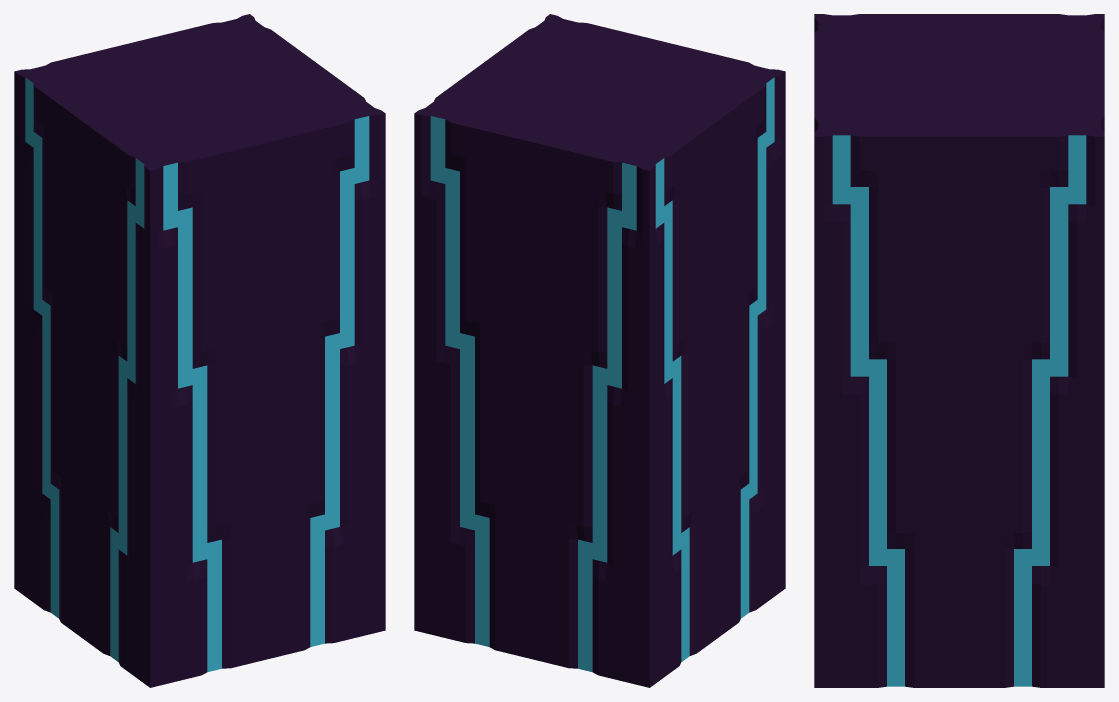
Rendered from building_export.fbx.
3 renders of one model, left to right at view 1: azimuth 30°, elevation 25°; view 2: azimuth 150°, elevation 25°; view 3: azimuth 270°, elevation 25°, orthographic. The views are drawn at different scales.
Visible parts, largest first — view 1: pCube3; view 2: pCube3; view 3: pCube3.
Boxes of the visible parts, left/top/right/bottom form: pCube3: left=14, top=14, right=385, bottom=687; pCube3: left=414, top=14, right=785, bottom=687; pCube3: left=814, top=14, right=1104, bottom=687.
Bounding box in the file's own units: 18.09 × 37.95 × 18.09.
